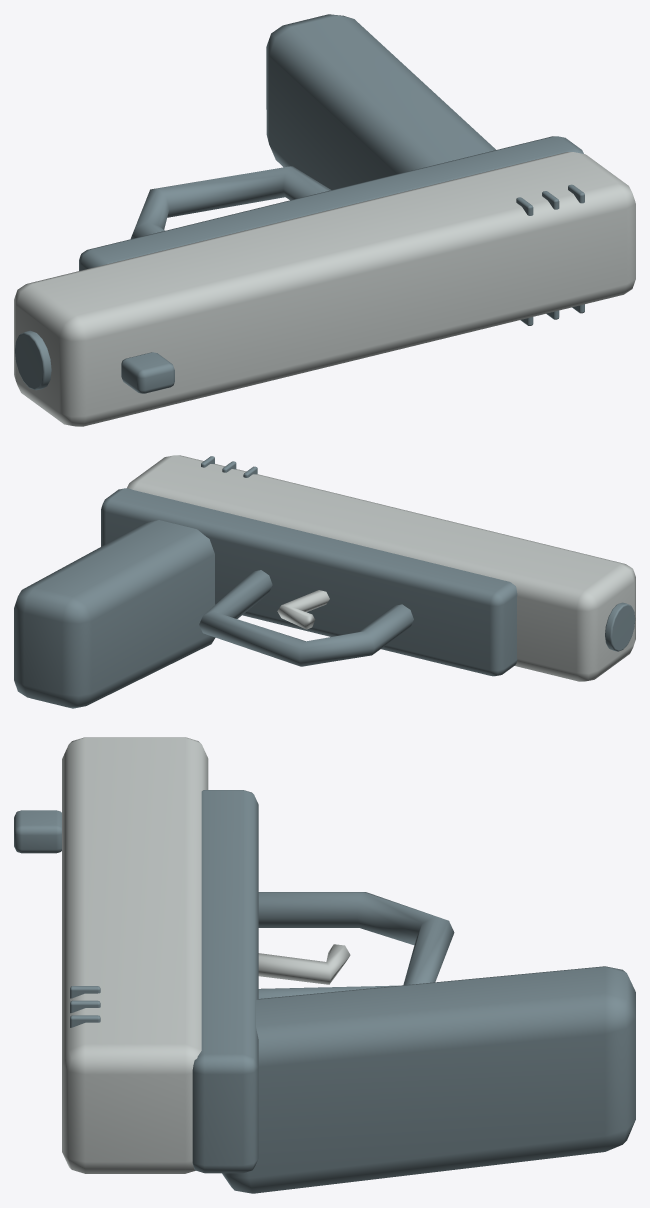
File: pistol.glb
3 renders of one model, top to bottom at view 1: azimuth 30°, elevation 25°; view 2: azimuth 150°, elevation 25°; view 3: azimuth 270°, elevation 25°, orthographic. The views are drawn at different scales.
Parts seen in each view (by area): view 1: slide, grip, frame, trigger_guard, front_sight, muzzle; view 2: slide, frame, grip, trigger_guard, muzzle, trigger; view 3: grip, slide, frame, trigger_guard, trigger, front_sight.
Part boxes in pixels (x1=…): slide: x1=14, y1=152, x2=635, y2=426; grip: x1=266, y1=14, x2=495, y2=189; frame: x1=79, y1=136, x2=583, y2=270; trigger_guard: x1=130, y1=166, x2=331, y2=238; front_sight: x1=121, y1=352, x2=174, y2=393; muzzle: x1=15, y1=330, x2=51, y2=390; slide: x1=127, y1=455, x2=635, y2=681; frame: x1=101, y1=488, x2=517, y2=676; grip: x1=14, y1=520, x2=215, y2=708; trigger_guard: x1=199, y1=570, x2=413, y2=666; muzzle: x1=605, y1=602, x2=635, y2=651; trigger: x1=277, y1=590, x2=329, y2=629; grip: x1=222, y1=966, x2=635, y2=1193; slide: x1=62, y1=737, x2=208, y2=1173; frame: x1=192, y1=790, x2=258, y2=1173; trigger_guard: x1=258, y1=892, x2=454, y2=998; trigger: x1=258, y1=944, x2=350, y2=984; front_sight: x1=14, y1=810, x2=61, y2=853.
Bounding box in the file's own units: 0.204 × 0.0571 × 0.1615.
